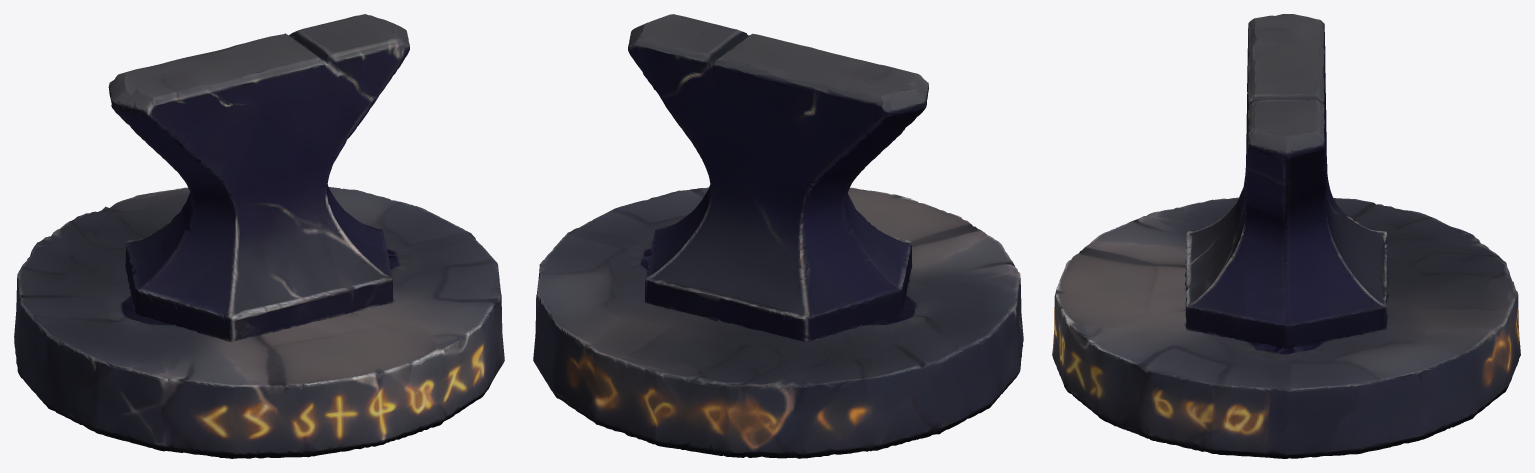
File: Forge_Anvil.glb
3 renders of one model, left to right at view 1: azimuth 30°, elevation 25°; view 2: azimuth 150°, elevation 25°; view 3: azimuth 270°, elevation 25°, orthographic. The views are drawn at different scales.
Visible parts, largest first — view 1: Forge_Anvil; view 2: Forge_Anvil; view 3: Forge_Anvil.
Boxes of the visible parts, x1=… form: Forge_Anvil: x1=14, y1=14, x2=504, y2=458; Forge_Anvil: x1=533, y1=14, x2=1023, y2=458; Forge_Anvil: x1=1052, y1=14, x2=1520, y2=458.
Bounding box in the file's own units: 2.96 × 2 × 2.96.
Materials: 1 (1 with a texture image).
